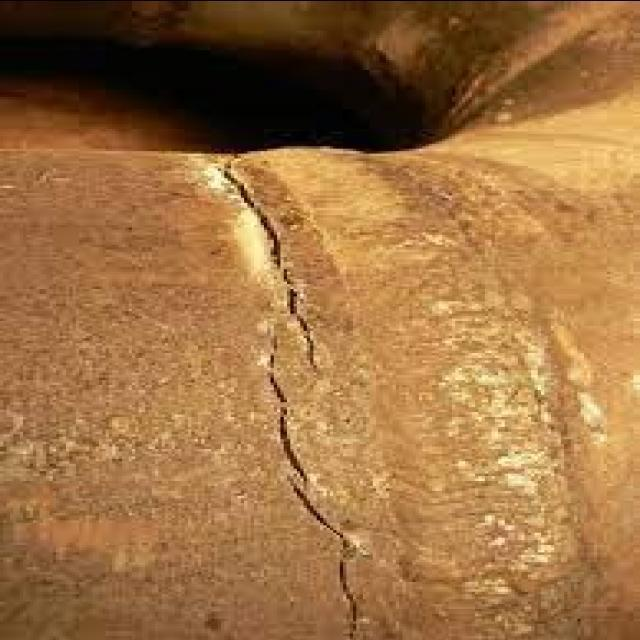Crack: (259, 321, 368, 640), (215, 153, 327, 391)
